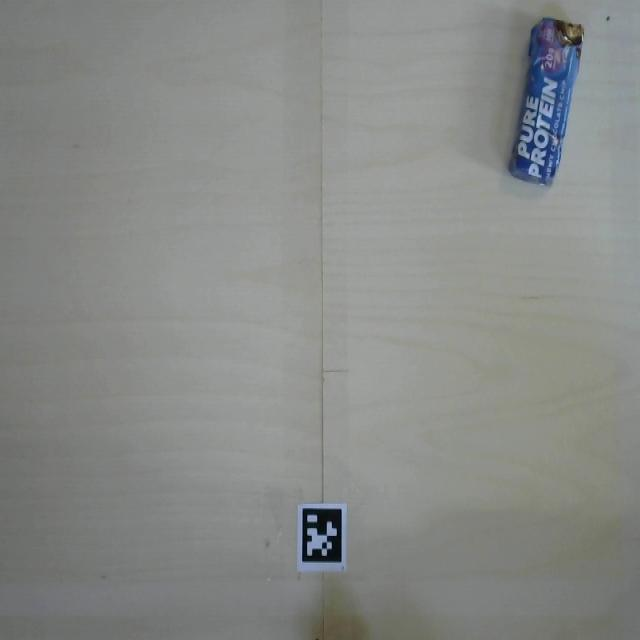proteinbar: (501, 9, 592, 194)
